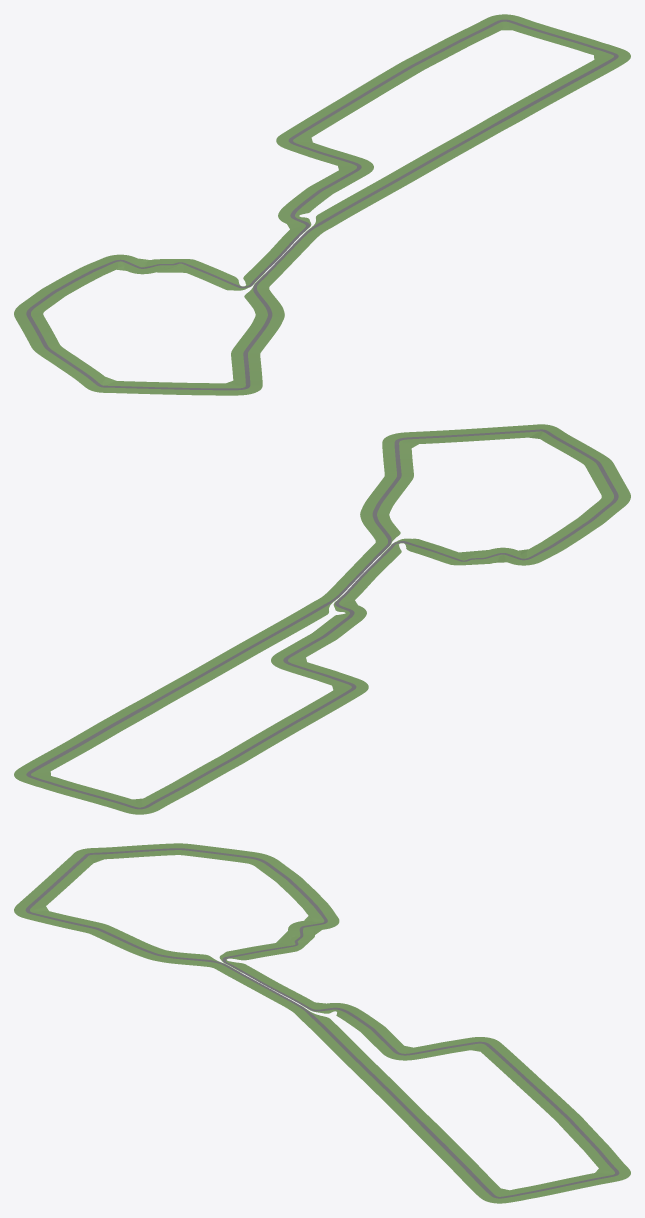
The model's file is road_mesh.glb.
3 views of the same model, one above another, from view 1: azimuth 30°, elevation 25°; view 2: azimuth 210°, elevation 25°; view 3: azimuth 270°, elevation 25° (orthographic). The views are drawn at different scales.
Parts seen in each view (by area): view 1: road_20, road_03, road_21, road_09, road_01, road_33, road_08, road_00, road_06, road_07, road_22, road_30 (+18 smaller); view 2: road_17, road_00, road_09, road_01, road_18, road_23, road_33, road_04, road_22, road_03, road_16, road_05 (+18 smaller); view 3: road_22, road_21, road_17, road_16, road_09, road_23, road_18, road_03, road_00, road_01, road_04, road_20 (+18 smaller).
Boxes of the visible parts, <box> form: road_20: <box>35,346,100,379</box>; road_03: <box>480,14,557,39</box>; road_21: <box>76,373,149,393</box>; road_09: <box>297,143,373,169</box>; road_01: <box>570,47,630,80</box>; road_33: <box>483,97,549,128</box>; road_08: <box>276,119,328,152</box>; road_00: <box>527,73,593,104</box>; road_06: <box>348,68,413,100</box>; road_07: <box>306,94,371,126</box>; road_22: <box>148,382,222,395</box>; road_30: <box>352,170,418,202</box>; road_17: <box>537,518,602,552</box>; road_00: <box>51,725,118,757</box>; road_09: <box>271,657,347,684</box>; road_01: <box>14,750,74,783</box>; road_18: <box>578,490,630,523</box>; road_23: <box>382,431,423,460</box>; road_33: <box>95,700,161,732</box>; road_04: <box>142,774,209,806</box>; road_22: <box>422,427,496,443</box>; road_03: <box>87,791,164,814</box>; road_16: <box>487,544,558,565</box>; road_05: <box>187,749,254,781</box>; road_22: <box>24,870,78,904</box>; road_21: <box>55,847,111,875</box>; road_17: <box>277,877,329,910</box>; road_16: <box>288,906,339,934</box>; road_09: <box>392,1039,468,1060</box>; road_23: <box>14,899,71,926</box>; road_18: <box>242,851,300,882</box>; road_03: <box>564,1165,630,1189</box>; road_00: <box>434,1146,485,1177</box>; road_01: <box>460,1173,512,1203</box>; road_04: <box>575,1137,625,1169</box>; road_20: <box>111,843,180,858</box>.
Bounding box in the file's own units: 2139 × 28.72 × 1591.
